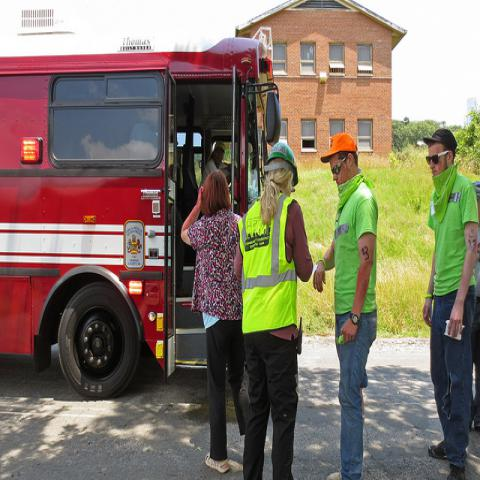bus: (1, 37, 280, 400)
